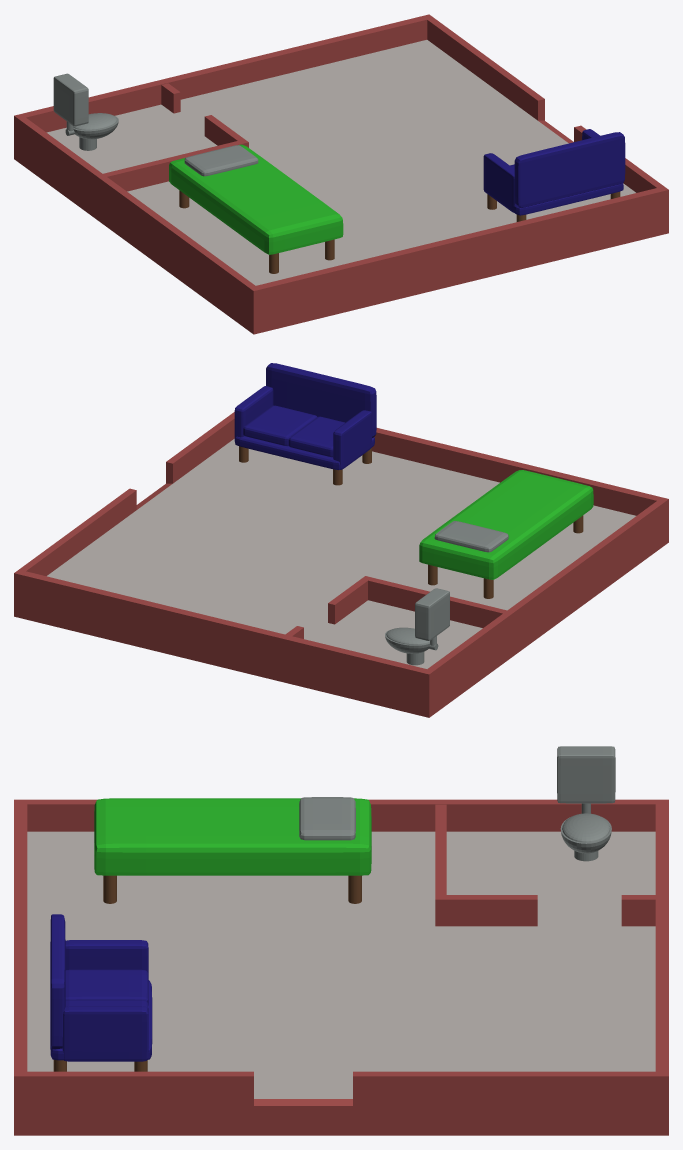
The model's file is FloorRoom_-_Copy_-_CopyFixed.fbx.
3 renders of one model, top to bottom at view 1: azimuth 30°, elevation 25°; view 2: azimuth 150°, elevation 25°; view 3: azimuth 270°, elevation 25°, orthographic. The views are drawn at different scales.
Visible parts, largest first — view 1: Room.001; view 2: Room.001; view 3: Room.001.
Part boxes in pixels (x1,y1,x2,y2): Room.001: (14,14,668,334); Room.001: (14,363,668,717); Room.001: (14,746,668,1135).
Bounding box in the file's own units: 200 × 44.69 × 200.
